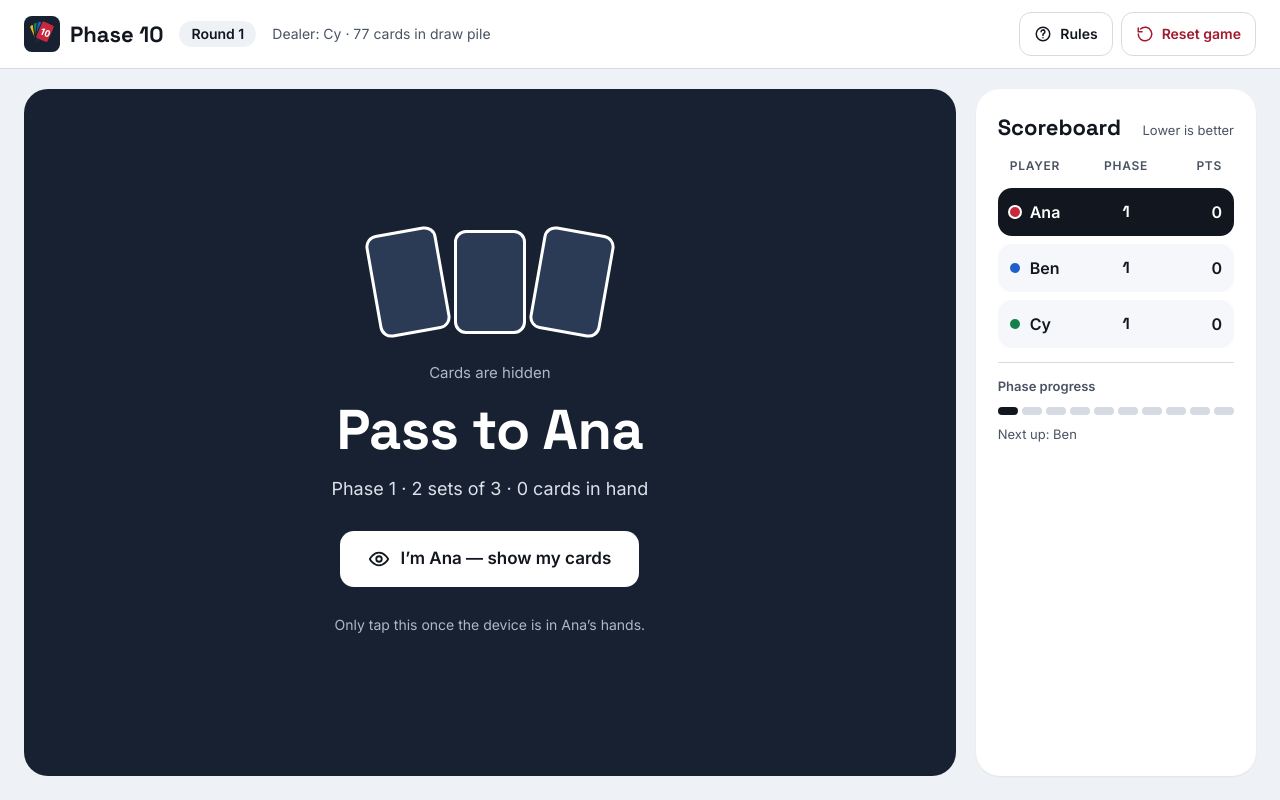
Test: GamePage › opens the rules from the handoff screen
Click the button "Rules". click: (1066, 34)
box: [1019,12,1113,56]
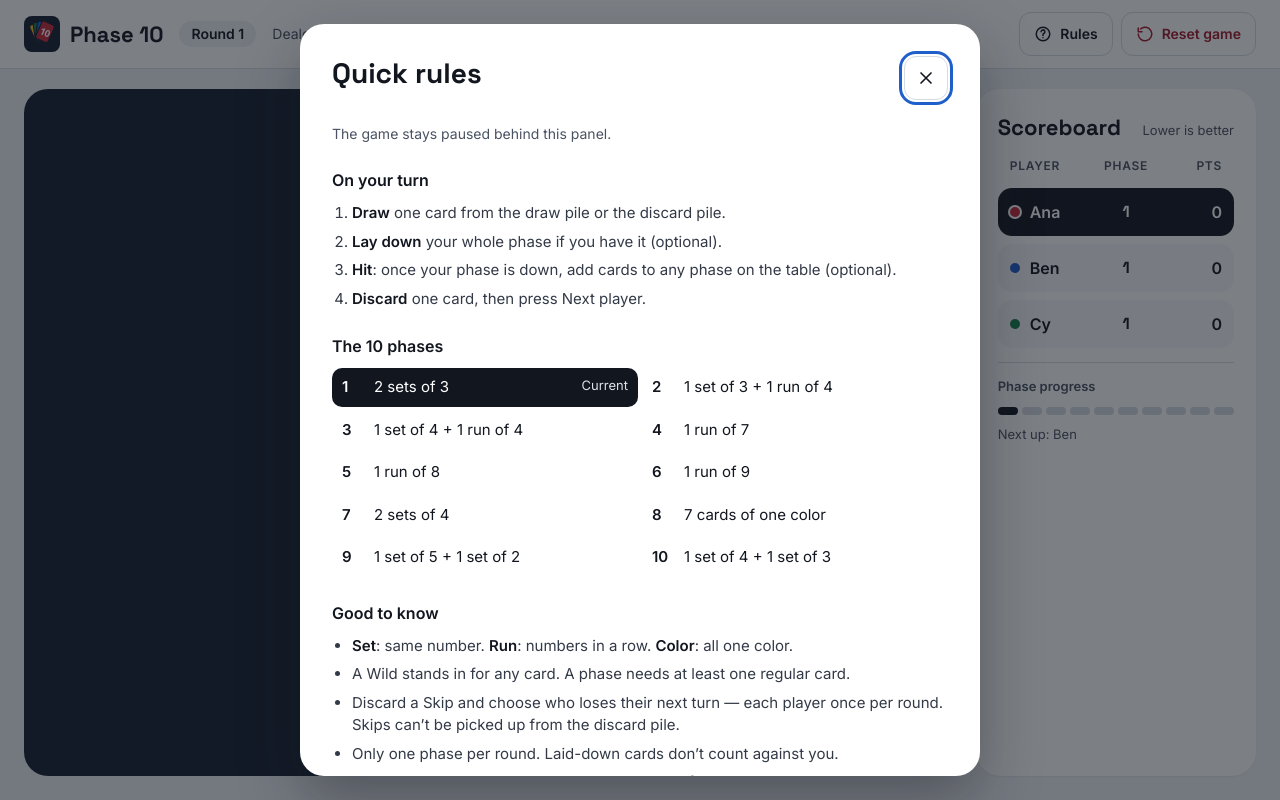
Check: the dialog "Quick rules" is shown, box [300,24,980,776]
